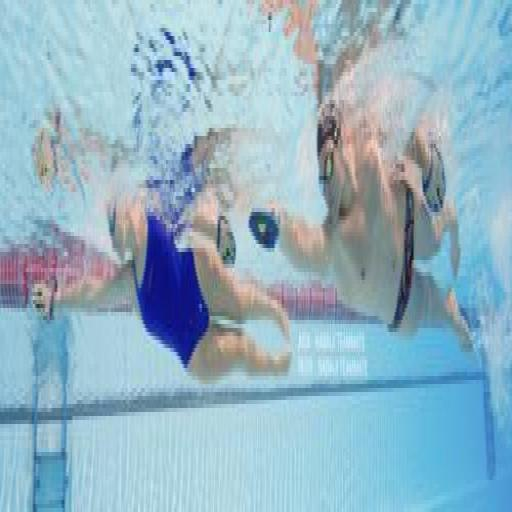swimming: (30, 176, 293, 392), (266, 88, 476, 356)
